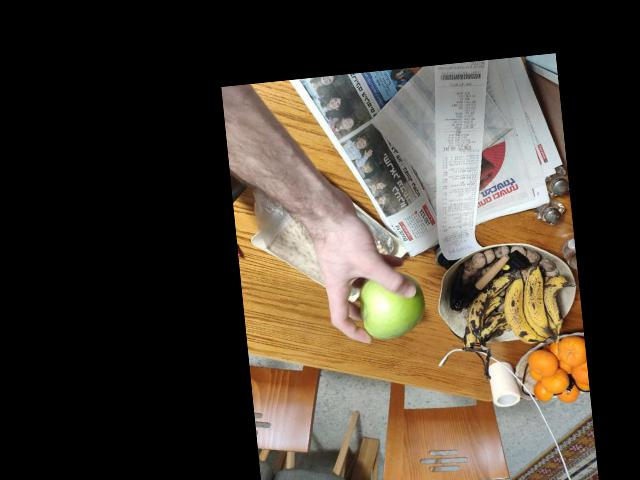apple: (356, 263, 425, 345)
